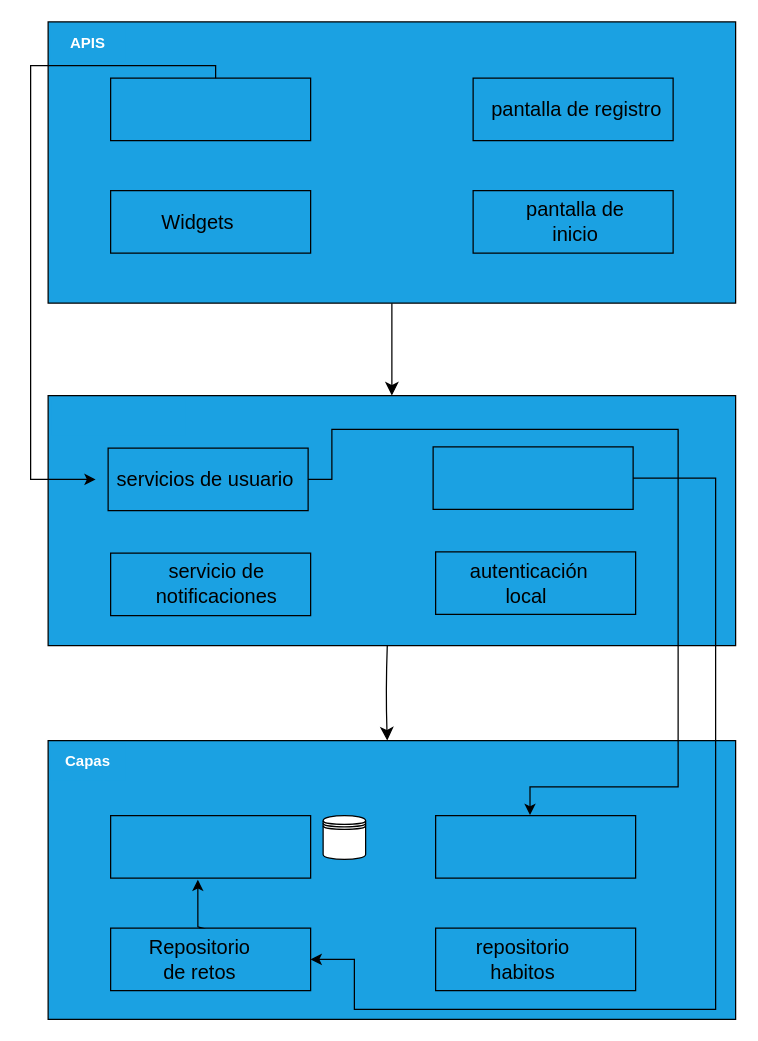
Image size: 758x1041. Some labels were removed from this diagram. The centre of each missing label's shape, as x and y in pixels:
Database helper(singleton): (210,846)
Módulos internos: (118,416)
pantalla de login: (210,109)
Repositorio: (535,846)
servicio de retos: (532,477)
